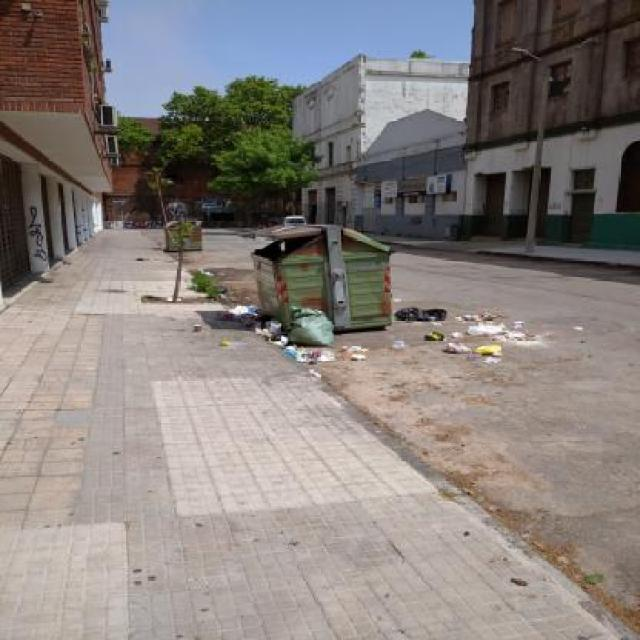garbage: (202, 300, 556, 374)
